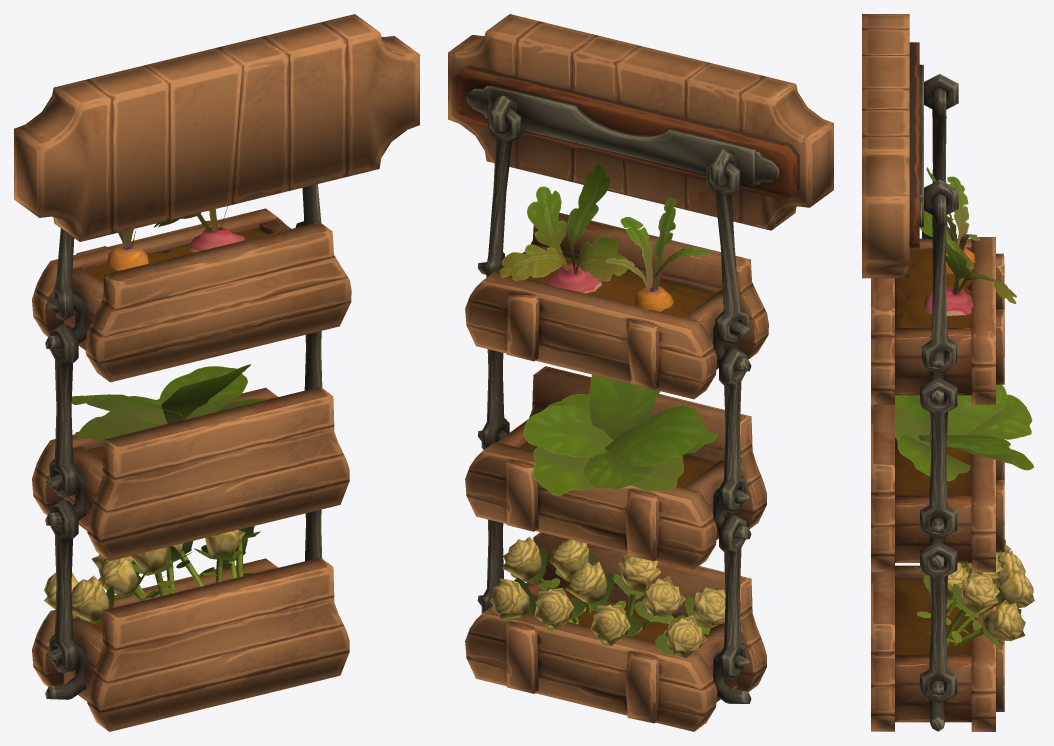
The picture shows the model from 3 angles, left to right: view 1: azimuth 30°, elevation 25°; view 2: azimuth 150°, elevation 25°; view 3: azimuth 270°, elevation 25°; orthographic projection. The views are drawn at different scales.
Visible parts, largest first — view 1: wallholder, shelf_modular_1, shelf_first, shelf_modular, flowers, spinnach, connector_modular, connector_modular_1, connector_first, rutabaga, carrot; view 2: wallholder, shelf_first, shelf_modular_1, shelf_modular, spinnach, flowers, rutabaga, connector_first, connector_modular, connector_modular_1, carrot; view 3: wallholder, shelf_first, shelf_modular_1, shelf_modular, spinnach, flowers, connector_first, connector_modular_1, connector_modular, rutabaga, carrot.
Part boxes in pixels (box(x1,y1,x2,y2)): wallholder: box(14, 14, 419, 241); shelf_modular_1: box(32, 557, 349, 731); shelf_first: box(32, 208, 351, 382); shelf_modular: box(32, 387, 349, 561); flowers: box(44, 526, 260, 624); spinnach: box(71, 364, 265, 442); connector_modular: box(49, 324, 322, 497); connector_modular_1: box(49, 499, 322, 673); connector_first: box(54, 184, 321, 320); rutabaga: box(154, 206, 245, 252); carrot: box(107, 229, 149, 270); wallholder: box(448, 14, 833, 230); shelf_first: box(465, 213, 768, 399); shelf_modular_1: box(465, 532, 766, 731); shelf_modular: box(465, 366, 766, 569); spinnach: box(523, 374, 717, 495); flowers: box(490, 536, 725, 657); rutabaga: box(500, 164, 627, 293); connector_first: box(486, 108, 748, 345); connector_modular: box(481, 347, 746, 512); connector_modular_1: box(481, 514, 746, 679); carrot: box(606, 198, 710, 311); wallholder: box(862, 14, 958, 278); shelf_first: box(871, 237, 1004, 404); shelf_modular_1: box(871, 565, 1004, 731); shelf_modular: box(871, 404, 1004, 572); spinnach: box(895, 384, 1033, 481); flowers: box(914, 539, 1034, 647); connector_first: box(922, 87, 956, 374); connector_modular_1: box(920, 541, 957, 703); connector_modular: box(920, 377, 957, 539); rutabaga: box(920, 211, 1016, 316); carrot: box(926, 167, 979, 273).
Size of the model in its own units: 1.98 by 3.17 by 0.8562.
Materials: 2 (2 with a texture image).
